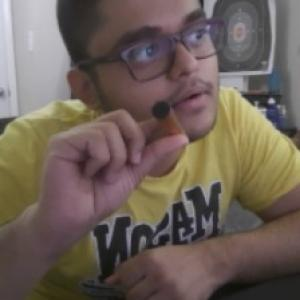Golden-E-Ciggirate: (152, 98, 185, 144)
